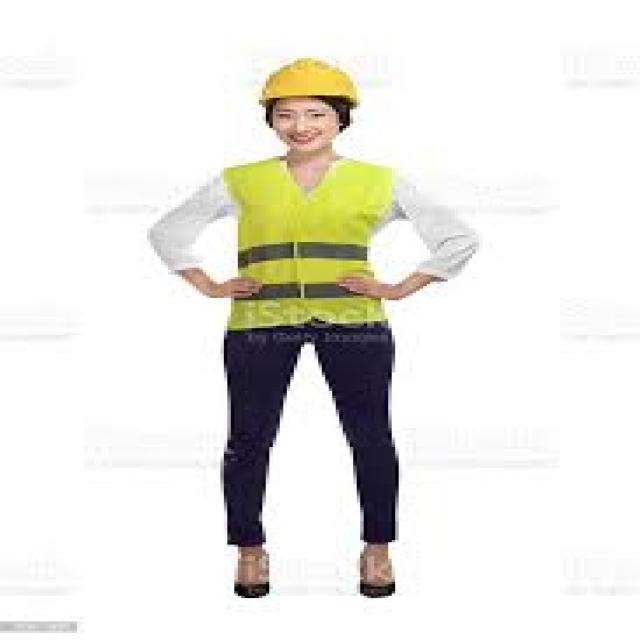Reflective-Jacket: (206, 154, 420, 332)
Safety-Helmet: (252, 54, 367, 110)
